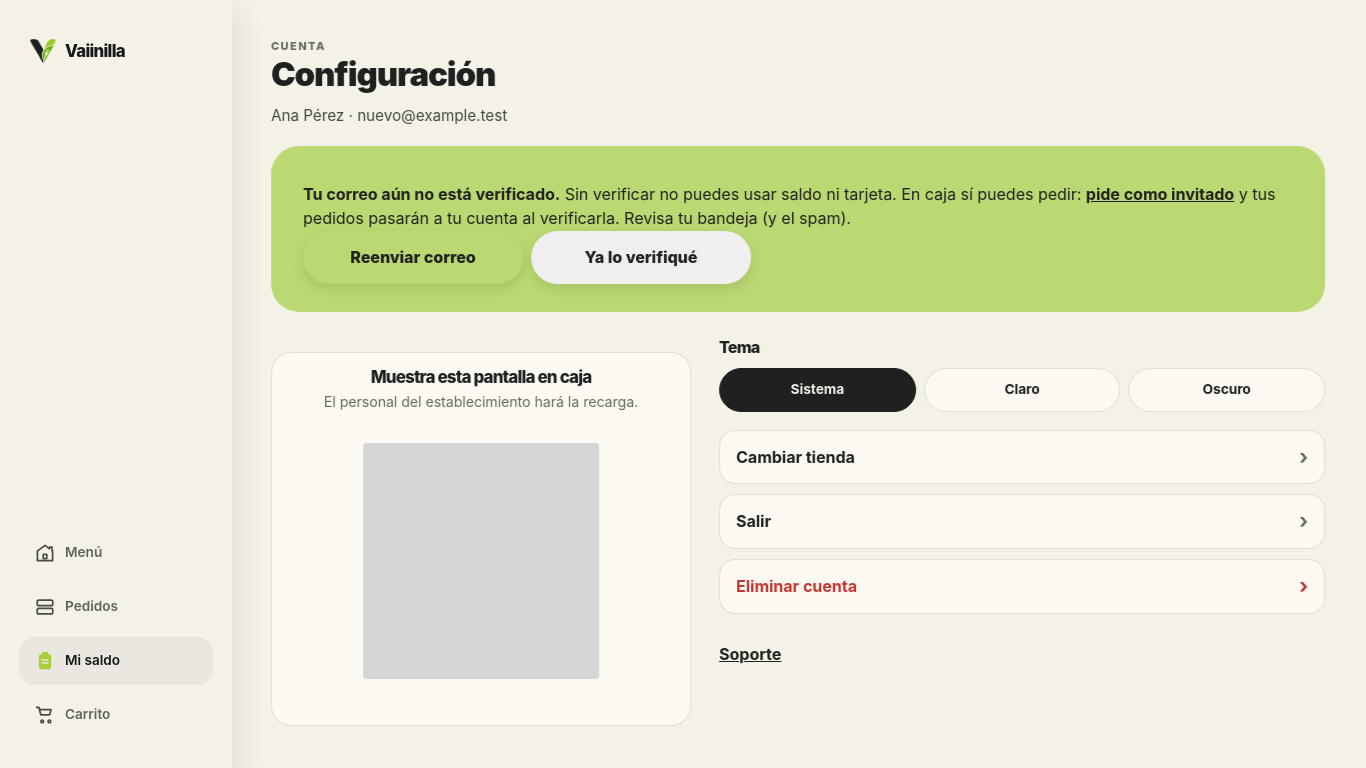
it: AccountPage › al volver verifica solo y esconde el aviso si ya confirmó
Click the button "Ya lo verifiqué": click(642, 258) [532, 231, 752, 284]
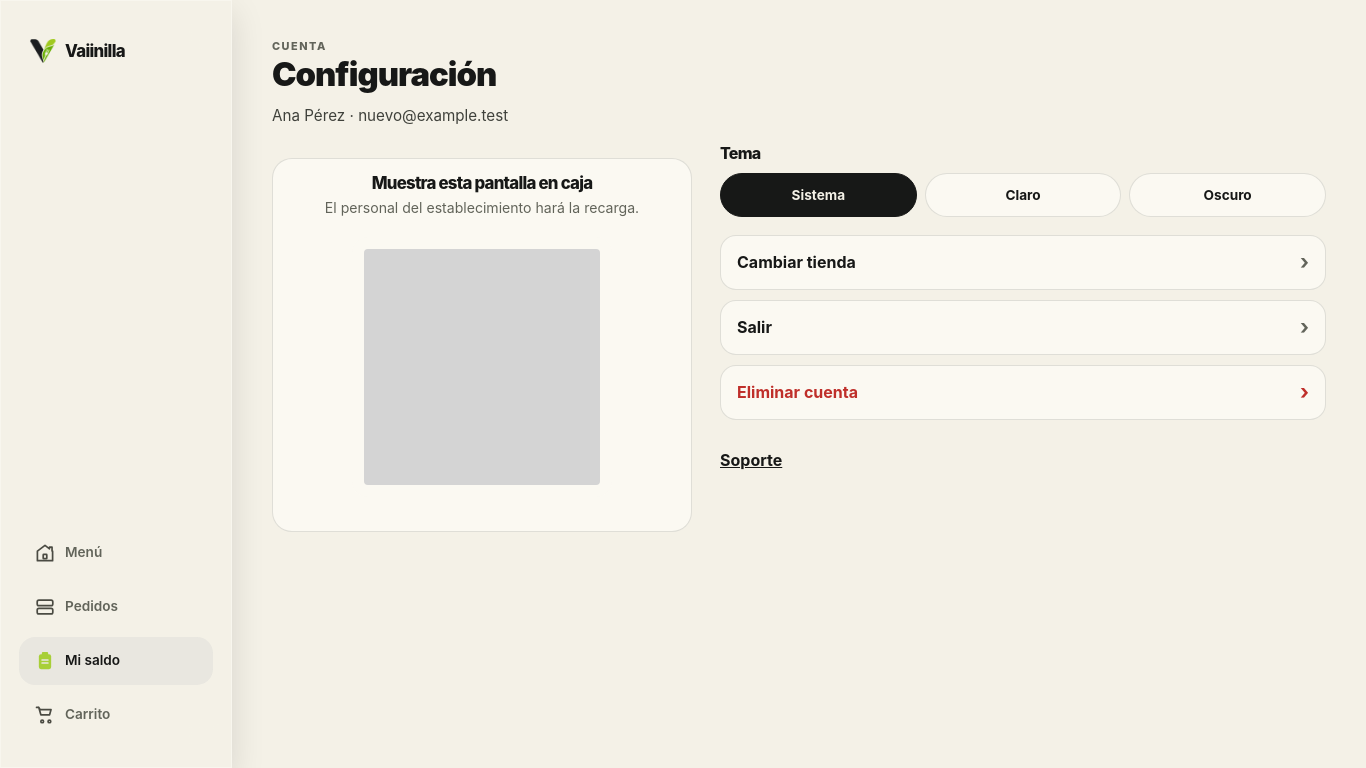
Check: the button "Ya lo verifiqué" is gone
